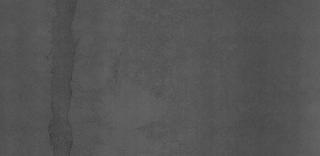water spot: (42, 4, 88, 154)
